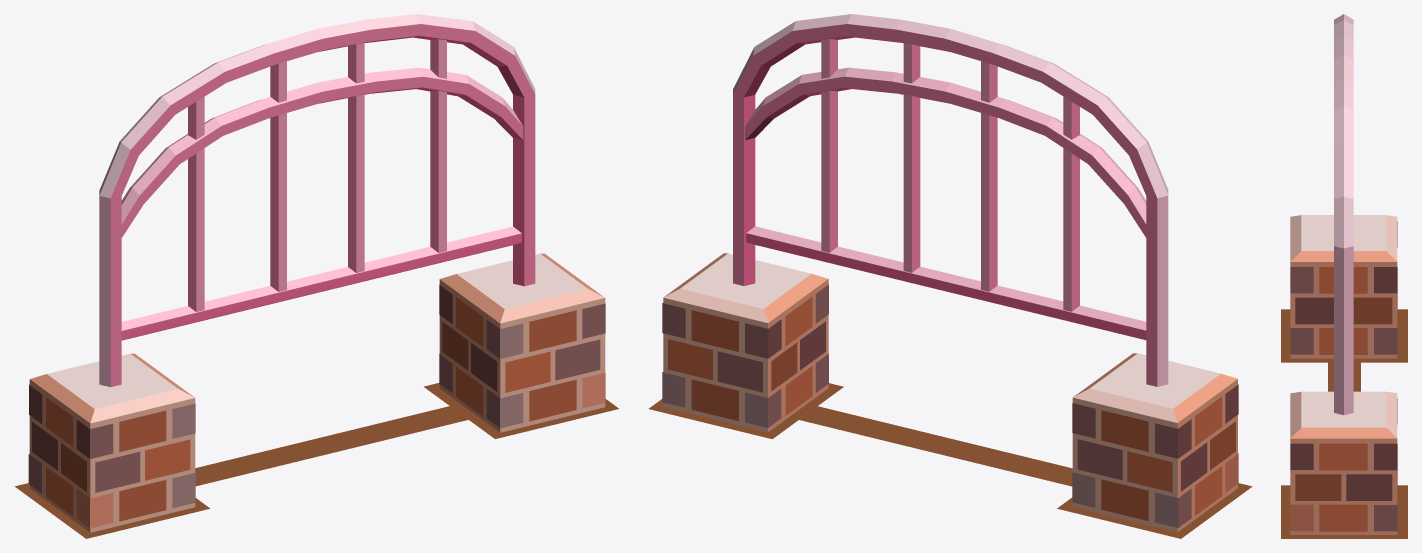
Rendered from barrier_004.fbx.
3 views of the same model, side by side, from view 1: azimuth 30°, elevation 25°; view 2: azimuth 150°, elevation 25°; view 3: azimuth 270°, elevation 25° (orthographic). The views are drawn at different scales.
Parts seen in each view (by area): view 1: barrier_004; view 2: barrier_004; view 3: barrier_004.
Boxes of the visible parts, x1,y1,x2,y2 form: barrier_004: (15,14,618,538); barrier_004: (648,14,1252,538); barrier_004: (1281,14,1407,538).
Bounding box in the file's own units: 156 × 117 × 36.34.
